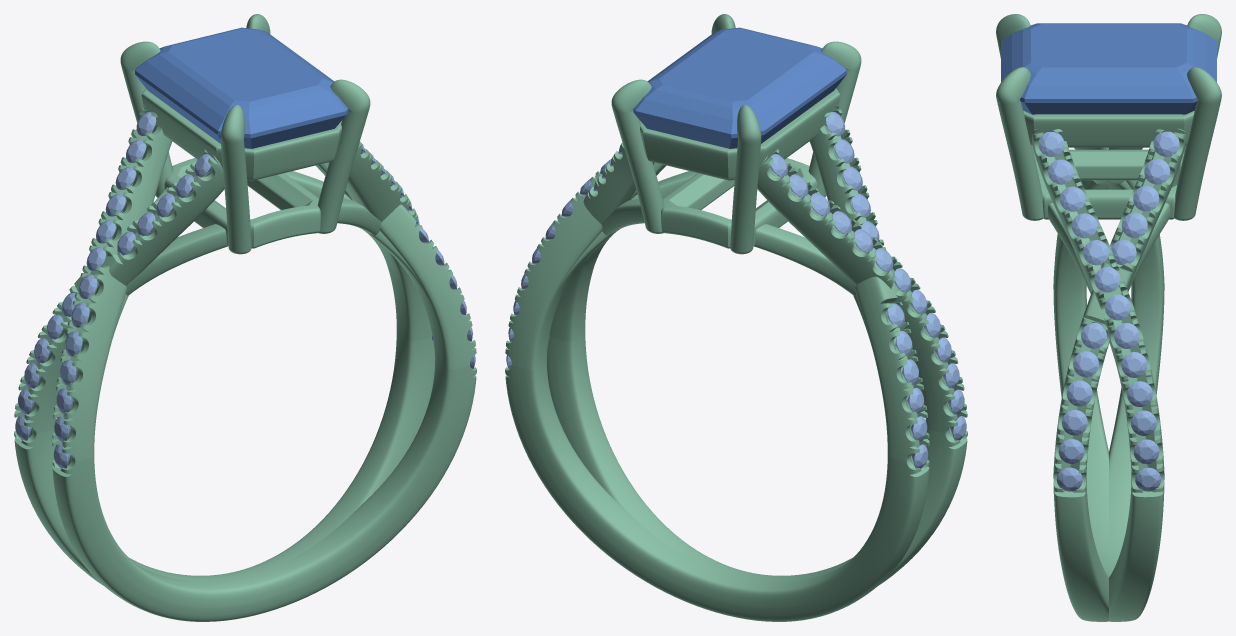
3 renders of one model, left to right at view 1: azimuth 30°, elevation 25°; view 2: azimuth 150°, elevation 25°; view 3: azimuth 270°, elevation 25°, orthographic.
Visible parts, largest first — view 1: FullSave_6_Blank.3dm, Gem; view 2: FullSave_6_Blank.3dm, Gem; view 3: FullSave_6_Blank.3dm, Gem (×25).
Boxes of the visible parts, x1,y1,x2,y2 form: FullSave_6_Blank.3dm: (14, 14, 476, 621); Gem: (135, 27, 348, 148); FullSave_6_Blank.3dm: (505, 14, 967, 621); Gem: (633, 27, 846, 148); FullSave_6_Blank.3dm: (996, 14, 1221, 621); Gem (×25): (1001, 23, 1216, 491).
Bounding box in the file's own units: 2.39 × 3.01 × 1.11.
